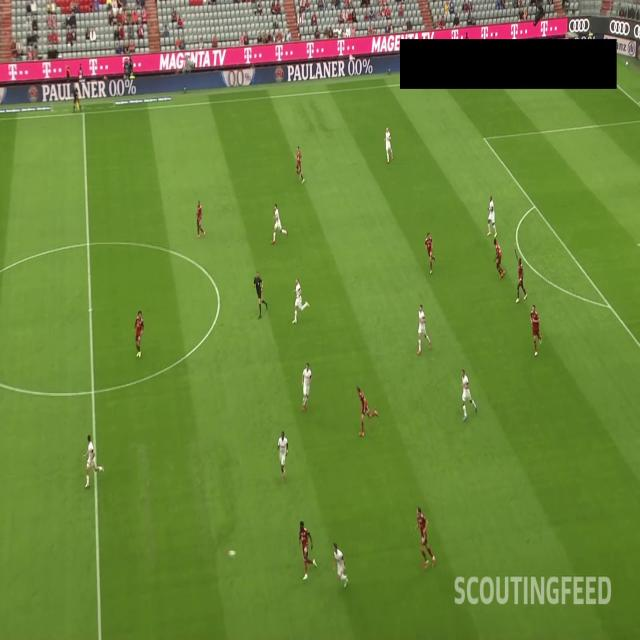ball: (228, 544, 238, 563)
player: (412, 504, 438, 570), (79, 432, 105, 492), (296, 518, 319, 581), (355, 383, 380, 437), (510, 245, 530, 304), (289, 273, 310, 326), (459, 366, 479, 420), (415, 300, 433, 354), (330, 540, 350, 588), (529, 302, 544, 357), (130, 306, 145, 360), (270, 202, 288, 246), (277, 428, 290, 484), (298, 360, 312, 412), (484, 191, 498, 237), (492, 234, 506, 278), (423, 230, 436, 274), (382, 123, 396, 163), (193, 195, 206, 238), (294, 144, 306, 185)
referee: (251, 266, 270, 322), (70, 82, 82, 115)
